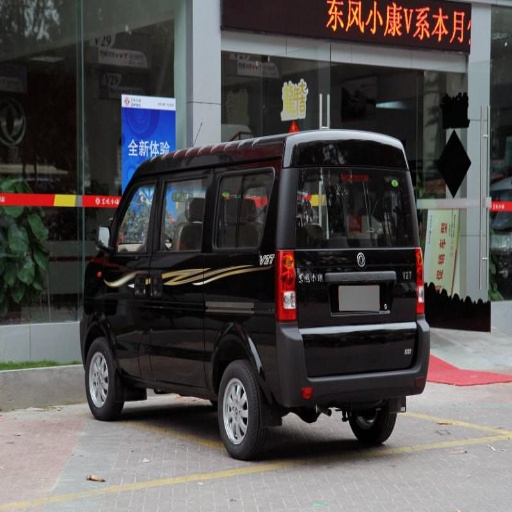back_bumper: (284, 328, 427, 405)
back_left_light: (277, 253, 296, 322)
back_right_door: (108, 271, 149, 378)
trunk: (150, 258, 297, 401), (298, 252, 417, 371)
